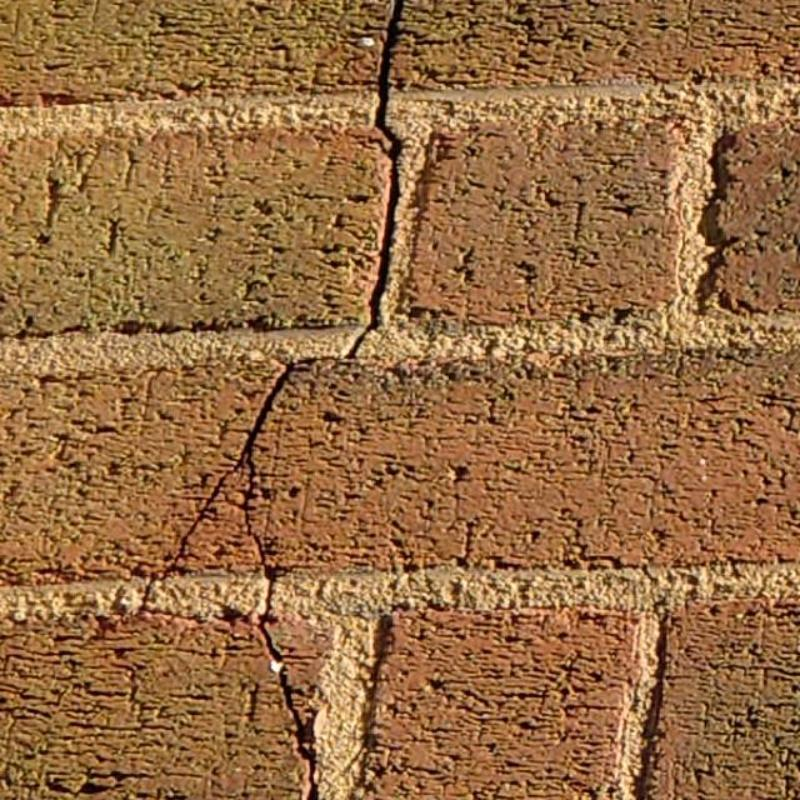pothole: (140, 357, 316, 663), (342, 0, 406, 359), (278, 667, 320, 799)
